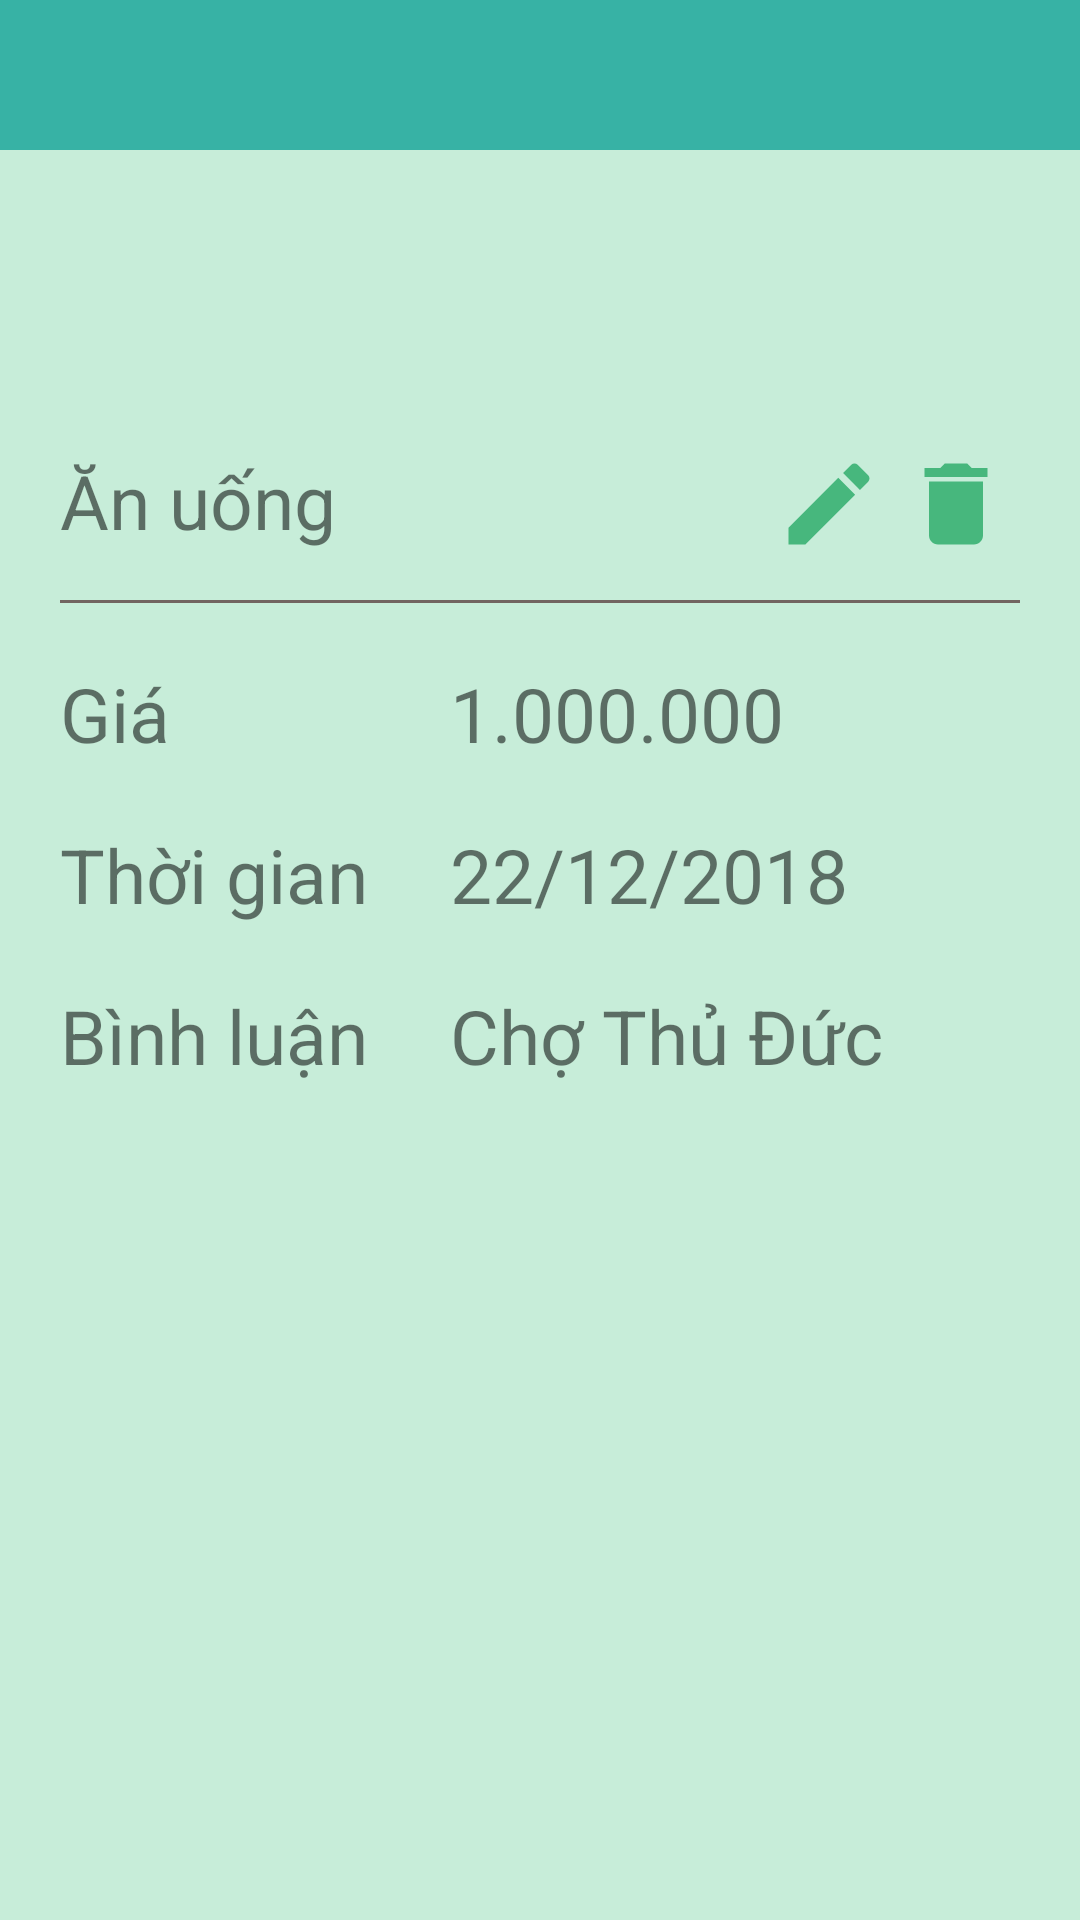

Icon bounding boxes for this 1080 x 1920 phone screenshot, format [x1=x1, y1=y1, x2=x2, y2=y2]:
delete: [x1=924, y1=463, x2=988, y2=545]
edit: [x1=788, y1=463, x2=870, y2=545]
